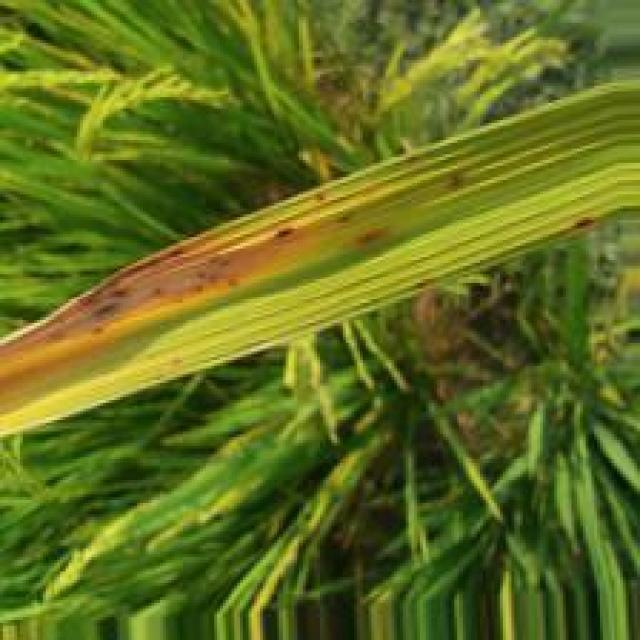Bacterial_Leaf_Blight: (0, 178, 400, 415), (342, 229, 384, 253), (569, 216, 595, 233), (442, 174, 462, 194)
